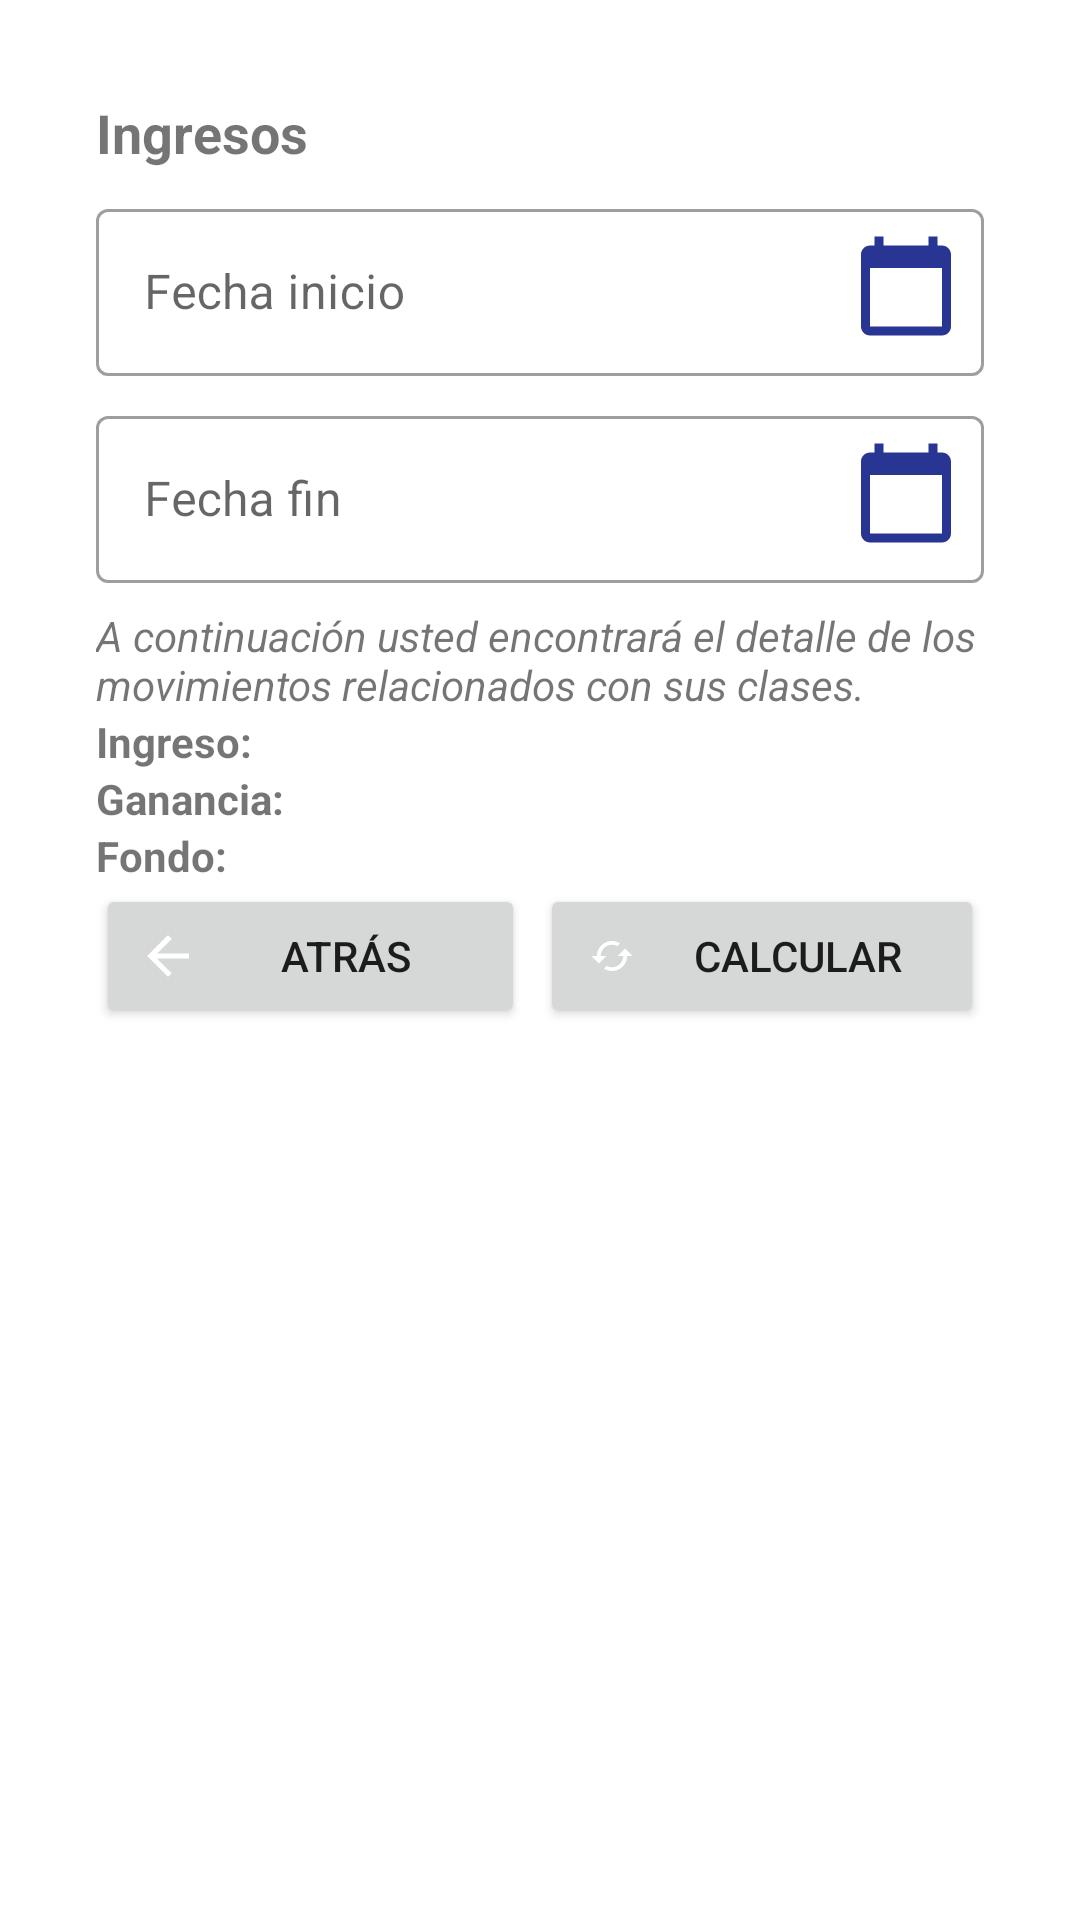

Named icons in this screenshot (1080 × 1920) and their bounding boxes, bbox=(x1, y1, x2, y2):
calendar today: bbox=(861, 236, 951, 336), bbox=(861, 443, 951, 543)
